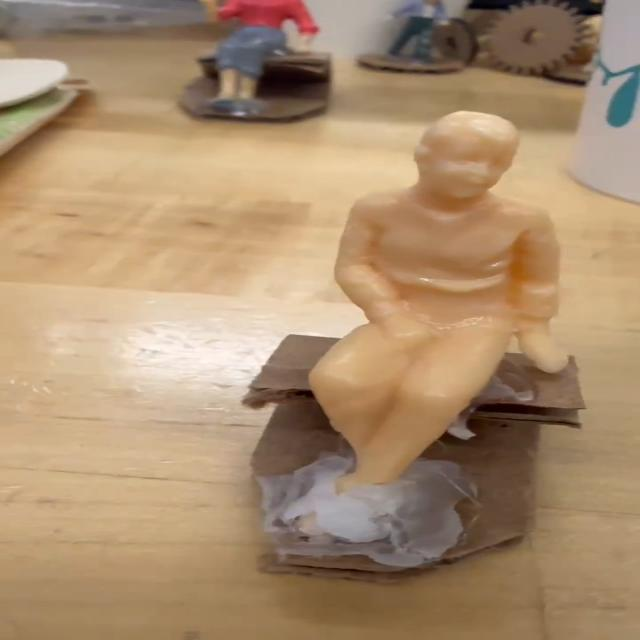Unauthorized: (302, 91, 576, 576)
